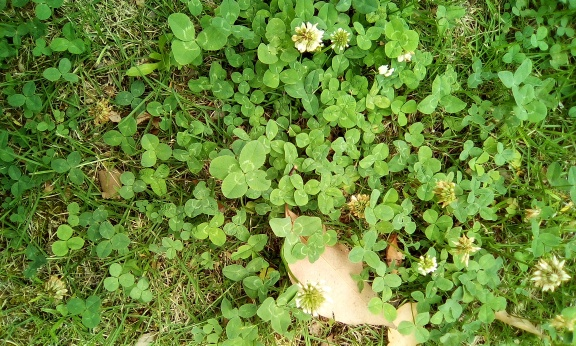4leaf: (208, 139, 272, 199)
